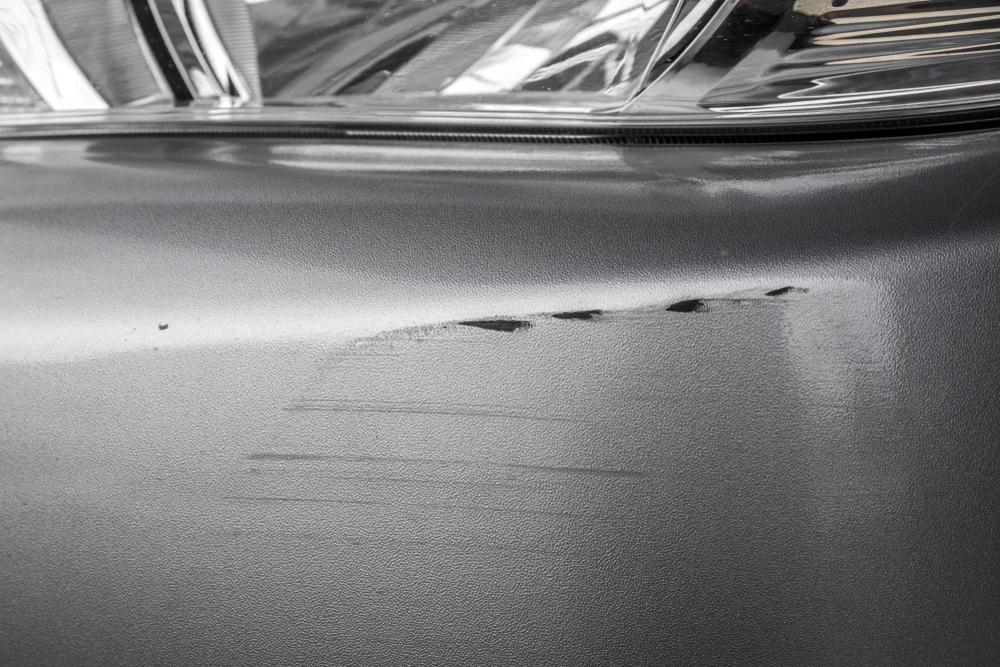scratch: (217, 275, 817, 551)
